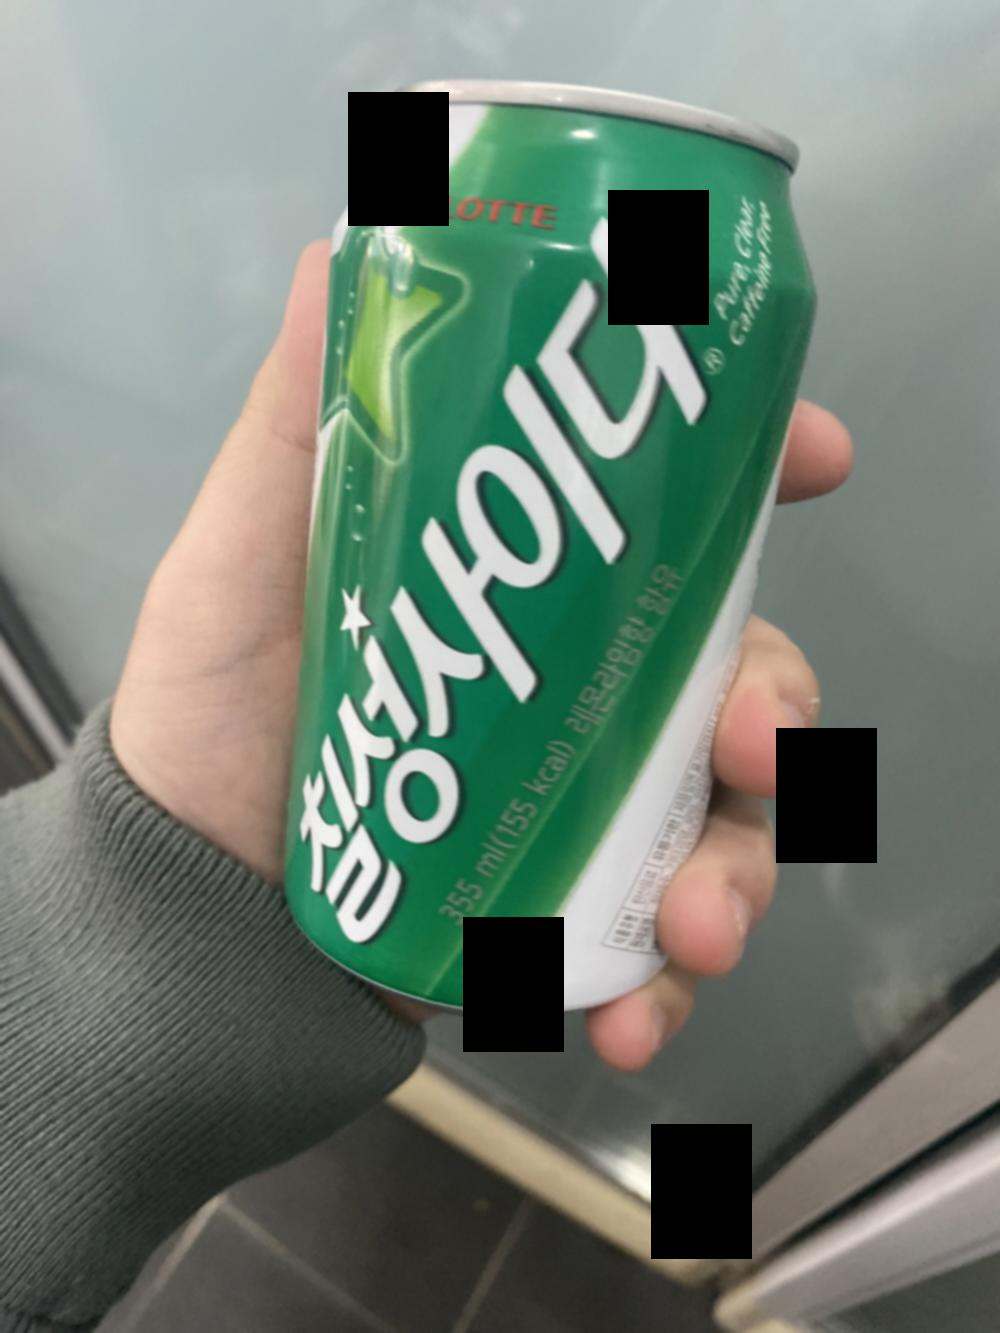chilsungcider: (288, 64, 827, 1027)
